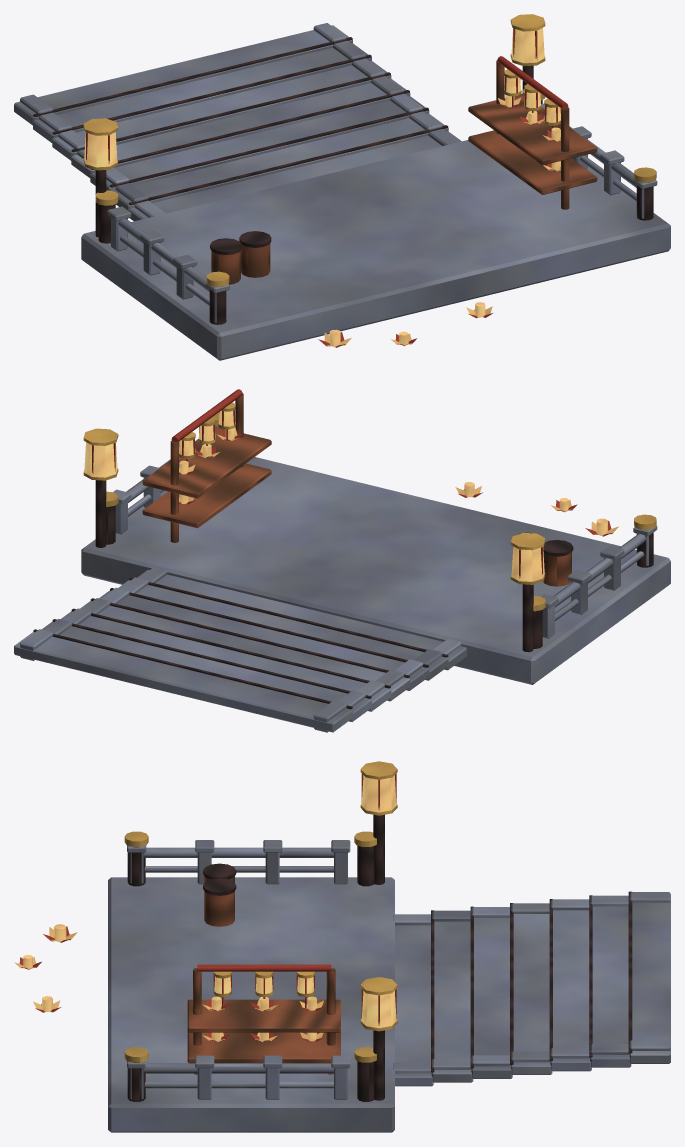
Rendered from model-quay.glb.
The picture shows the model from 3 angles, top to bottom: view 1: azimuth 30°, elevation 25°; view 2: azimuth 150°, elevation 25°; view 3: azimuth 270°, elevation 25°; orthographic projection. The views are drawn at different scales.
Visible parts, largest first — view 1: model-quay; view 2: model-quay; view 3: model-quay.
Boxes of the visible parts, bbox=[...] form: model-quay: bbox=[14, 14, 670, 360]; model-quay: bbox=[14, 389, 670, 732]; model-quay: bbox=[14, 761, 670, 1132].
Size of the model in its own units: 8.58 by 2.47 by 10.3.
Materials: 7 (7 with a texture image).
